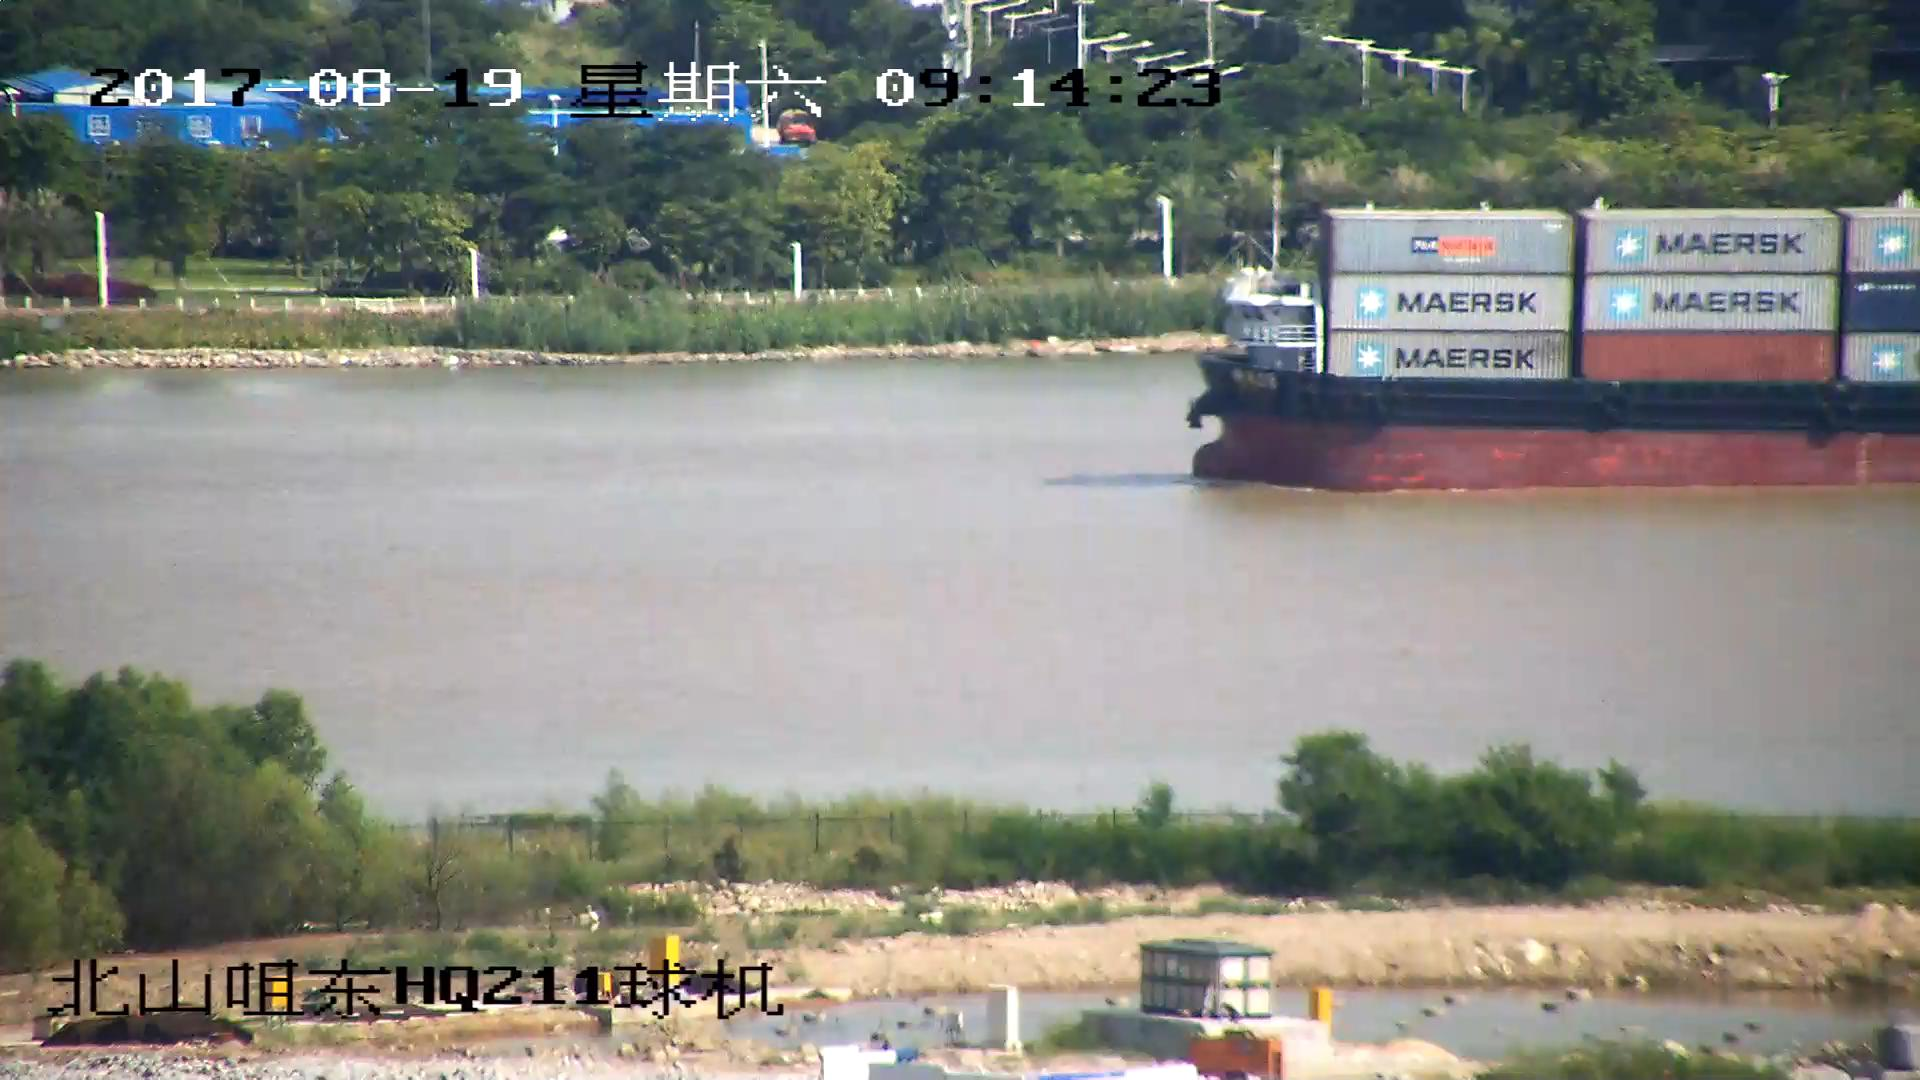container ship: (1190, 203, 1920, 491)
